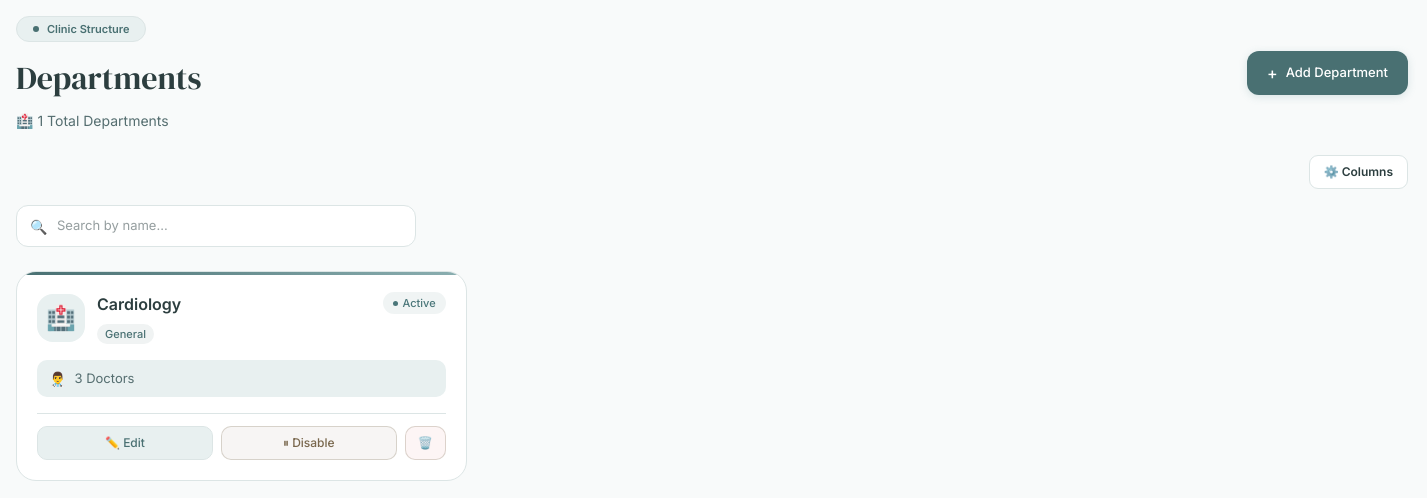
Departments › toggles a department active/inactive
The width and height of the screenshot is (1427, 498).
Expected: the text "Cardiology" is shown, [97,292,181,316]
Click the button "⏸ Disable" at [309, 443], box [221,426,397,460]
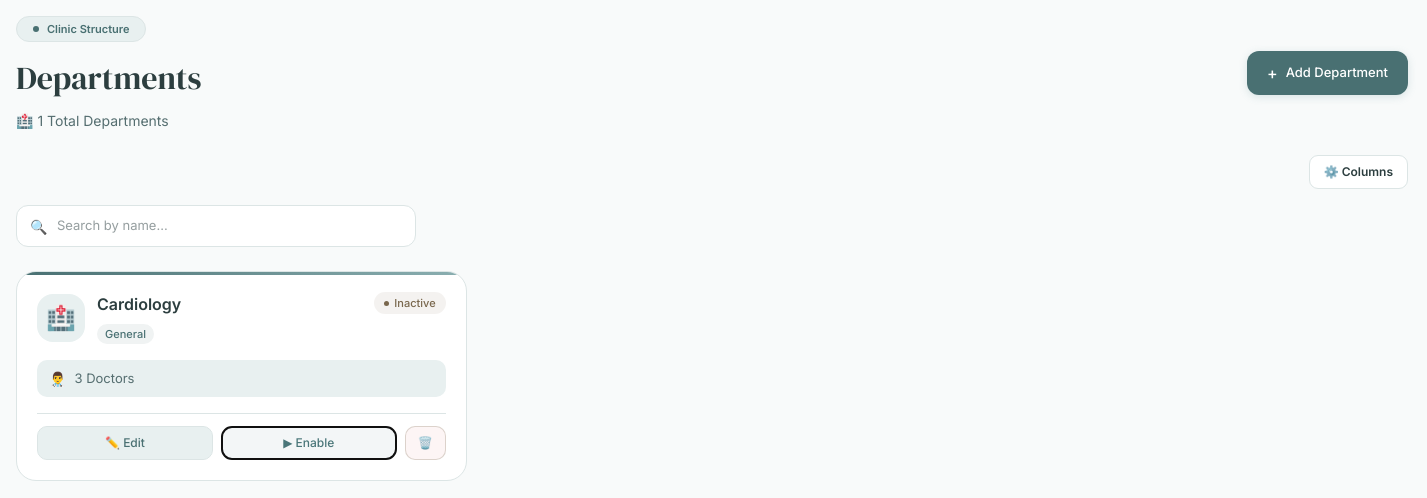
Expected: the button "▶ Enable" is shown, [221,426,397,460]
